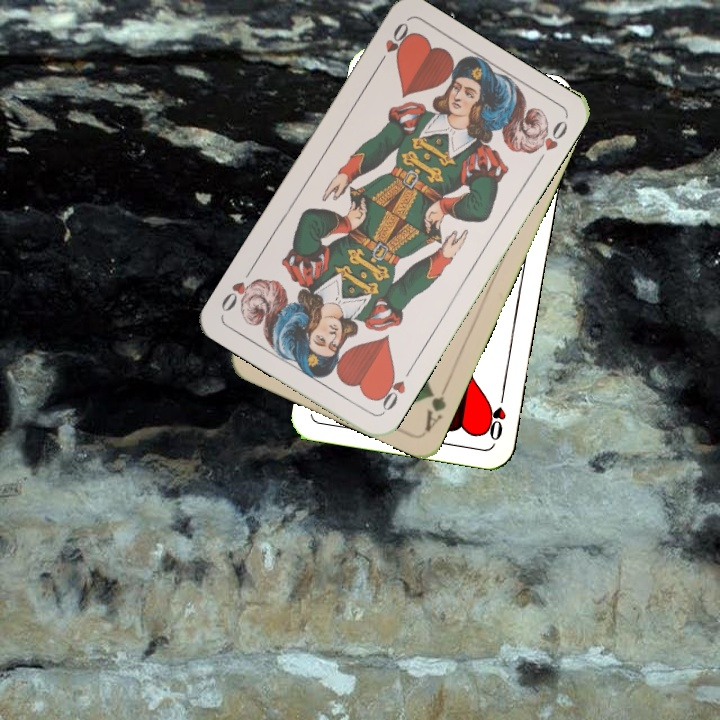GA: (420, 378, 452, 434)
HO: (373, 363, 416, 416), (372, 18, 413, 71), (484, 385, 509, 443)
